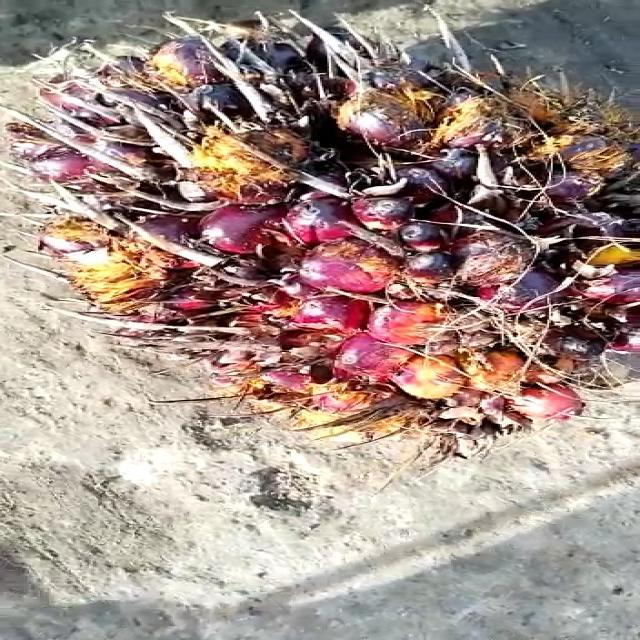palm oil: (0, 13, 640, 443)
